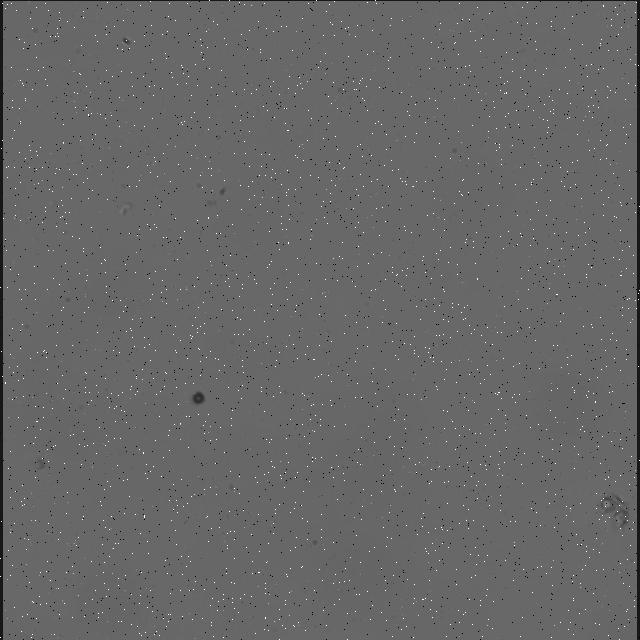microbeads: (192, 386, 210, 404)
